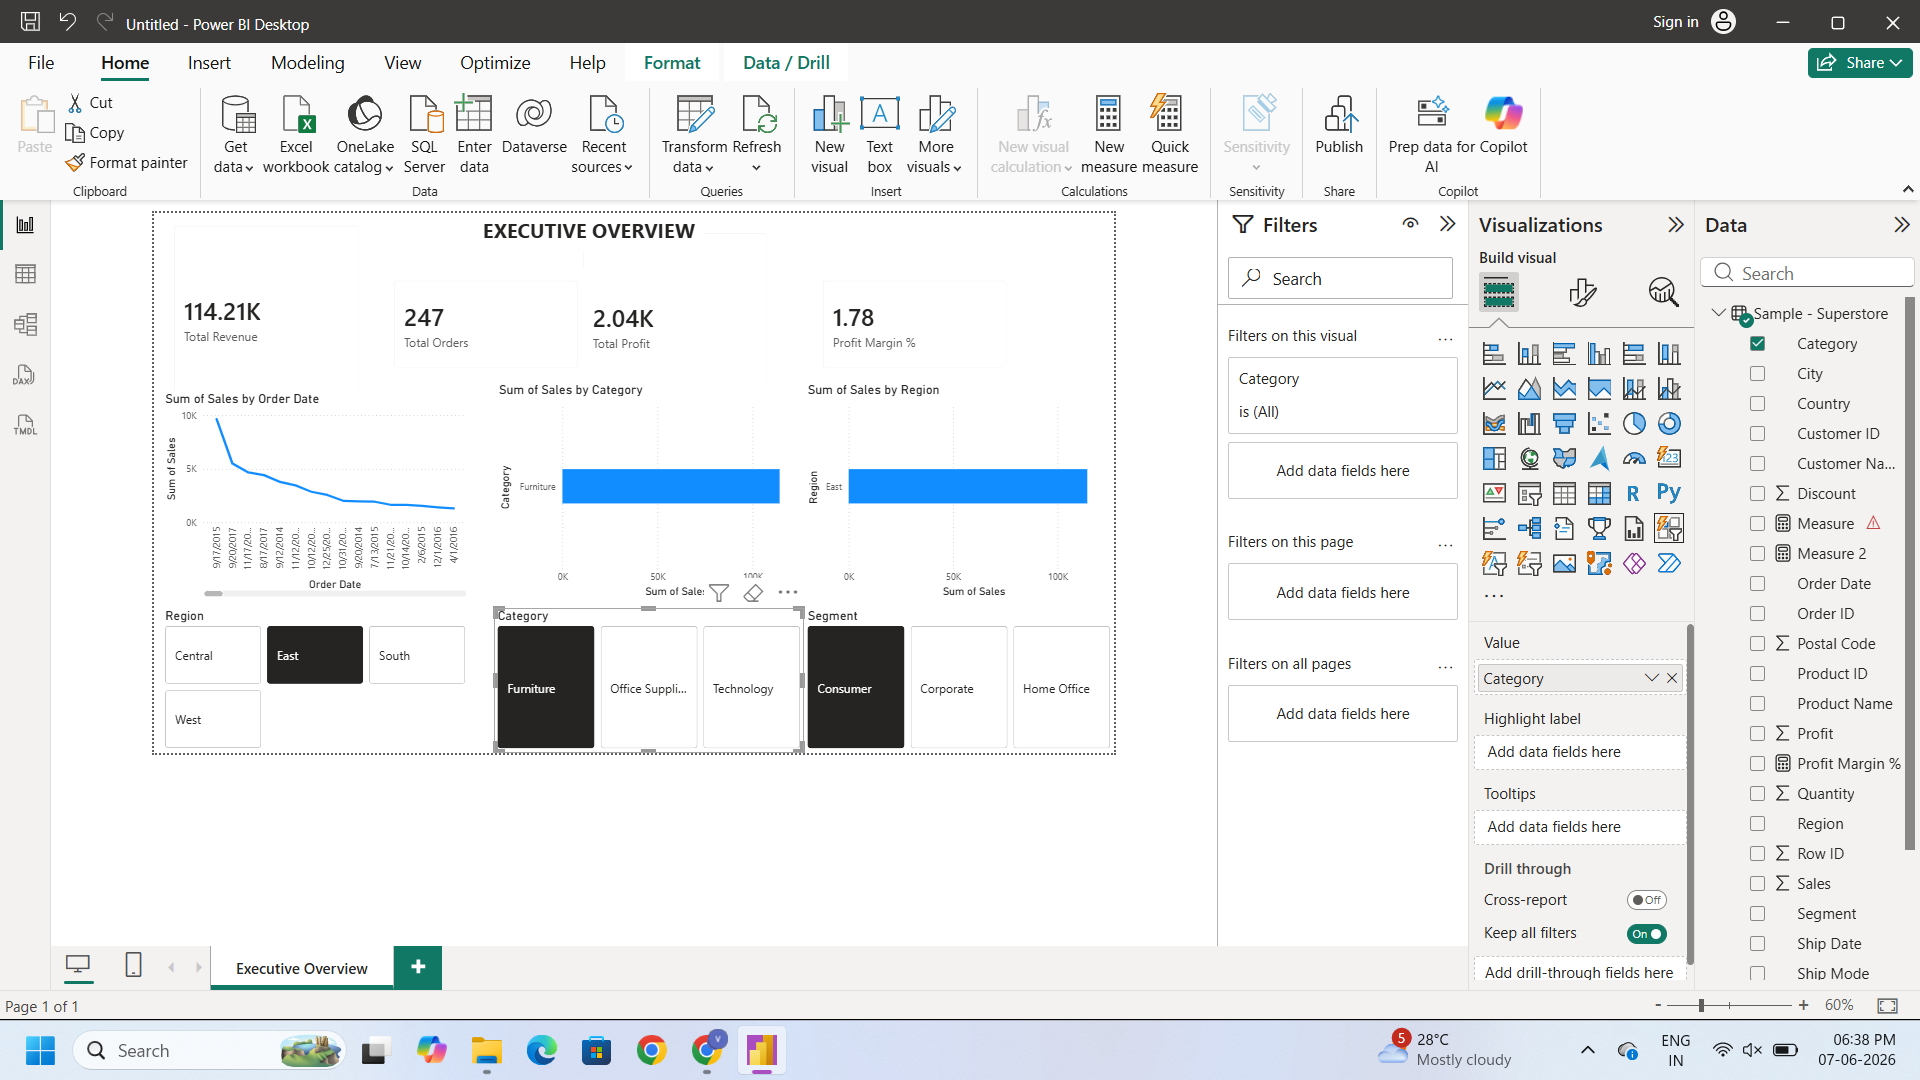

The page's visual inventory and layout, read from the dashboard file:
{"tool":"powerbi","page":{"name":"Executive Overview","canvas":[1280,720],"ordinal":0},"visuals":[{"type":"cardVisual","fields":{"Data":["Sample - Superstore.Total Revenue"]},"box":[10,0,280,280],"z":0},{"type":"cardVisual","fields":{"Data":["Sample - Superstore.Total Profit"]},"box":[555.7,9.6,279.9,279.9],"z":1},{"type":"cardVisual","fields":{"Data":["Sample - Superstore.Total Orders"]},"box":[303.3,74.1,279.9,150.9],"z":2},{"type":"cardVisual","fields":{"Data":["Sample - Superstore.Profit Margin %"]},"box":[875.5,74.1,279.9,150.9],"z":3},{"type":"lineChart","fields":{"Category":["Sample - Superstore.Order Date"],"Y":["Sum(Sample - Superstore.Sales)"]},"box":[9.6,237.4,411.7,279.9],"z":4},{"type":"clusteredBarChart","fields":{"Category":["Sample - Superstore.Category"],"Y":["Sum(Sample - Superstore.Sales)"]},"box":[454.2,225,413,292.3],"z":5},{"type":"clusteredBarChart","fields":{"Category":["Sample - Superstore.Region"],"Y":["Sum(Sample - Superstore.Sales)"]},"box":[867.2,225,413,292.3],"z":6},{"type":"advancedSlicerVisual","fields":{"Values":["Sample - Superstore.Region"]},"box":[10,527,412,193],"z":7},{"type":"advancedSlicerVisual","fields":{"Values":["Sample - Superstore.Category"]},"box":[454,527,413,193],"z":8},{"type":"advancedSlicerVisual","fields":{"Values":["Sample - Superstore.Segment"]},"box":[867,527,413,193],"z":9},{"type":"textbox","box":[433.3,0,300,50],"z":11}]}

Visuals, with their boxes on the page's 1280x720 design canvas (x1, y1, x2, y2). These are canvas units, not pixel positions in the 1920x1080 screenshot, which may show the page scaled, cropped or inside an application window:
cardVisual - Sample - Superstore.Total Revenue: box=[10, 0, 290, 280]
cardVisual - Sample - Superstore.Total Profit: box=[556, 10, 836, 290]
cardVisual - Sample - Superstore.Total Orders: box=[303, 74, 583, 225]
cardVisual - Sample - Superstore.Profit Margin %: box=[876, 74, 1155, 225]
lineChart - Sample - Superstore.Order Date x Sum(Sample - Superstore.Sales): box=[10, 237, 421, 517]
clusteredBarChart - Sample - Superstore.Category x Sum(Sample - Superstore.Sales): box=[454, 225, 867, 517]
clusteredBarChart - Sample - Superstore.Region x Sum(Sample - Superstore.Sales): box=[867, 225, 1280, 517]
advancedSlicerVisual - Sample - Superstore.Region: box=[10, 527, 422, 720]
advancedSlicerVisual - Sample - Superstore.Category: box=[454, 527, 867, 720]
advancedSlicerVisual - Sample - Superstore.Segment: box=[867, 527, 1280, 720]
textbox: box=[433, 0, 733, 50]
